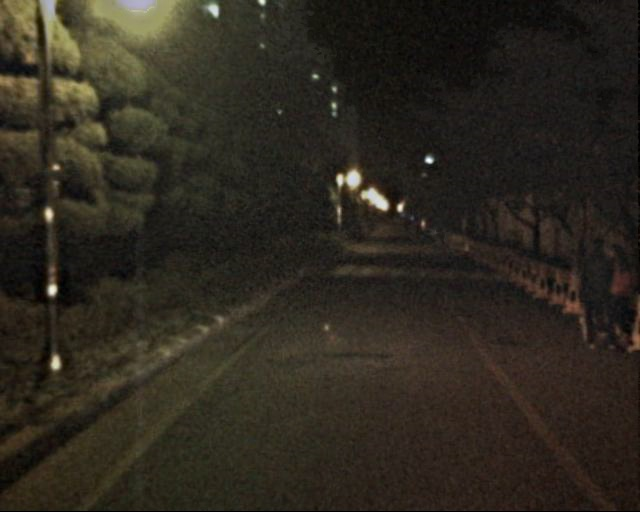person: (569, 240, 618, 349), (595, 243, 640, 347)
